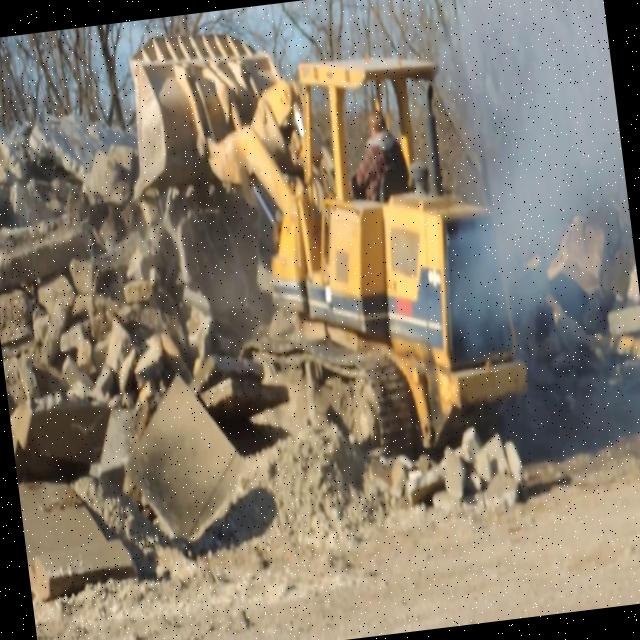Loader: (115, 0, 535, 485)
